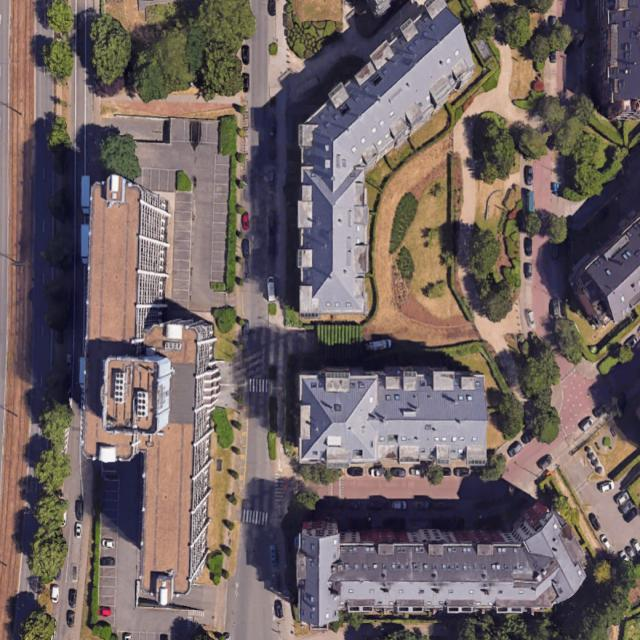immeuble: (290, 496, 591, 626), (297, 0, 493, 185), (81, 174, 168, 463), (137, 312, 216, 603), (296, 371, 487, 463), (297, 127, 367, 319)
